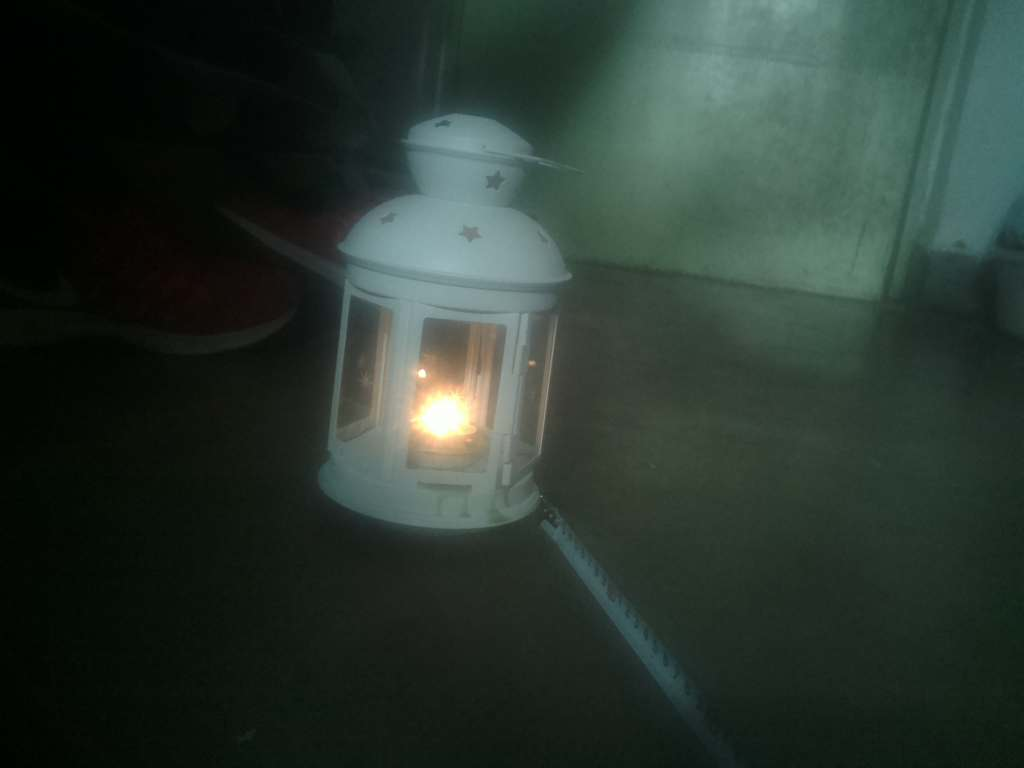fire: (382, 356, 512, 481)
